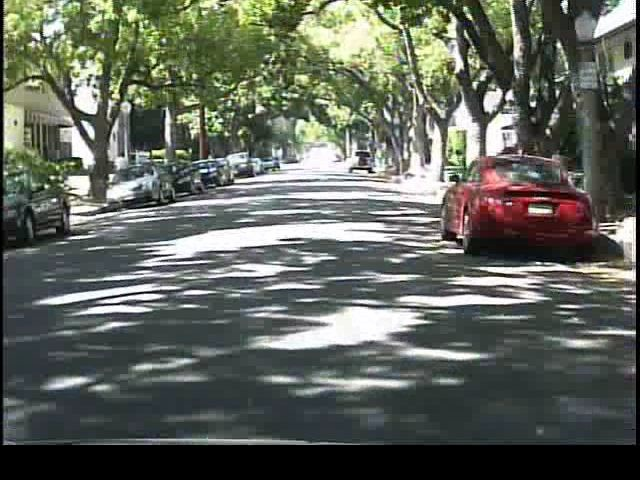person: (113, 147, 135, 196)
